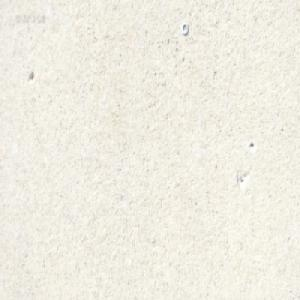Washer: (181, 20, 188, 35)
